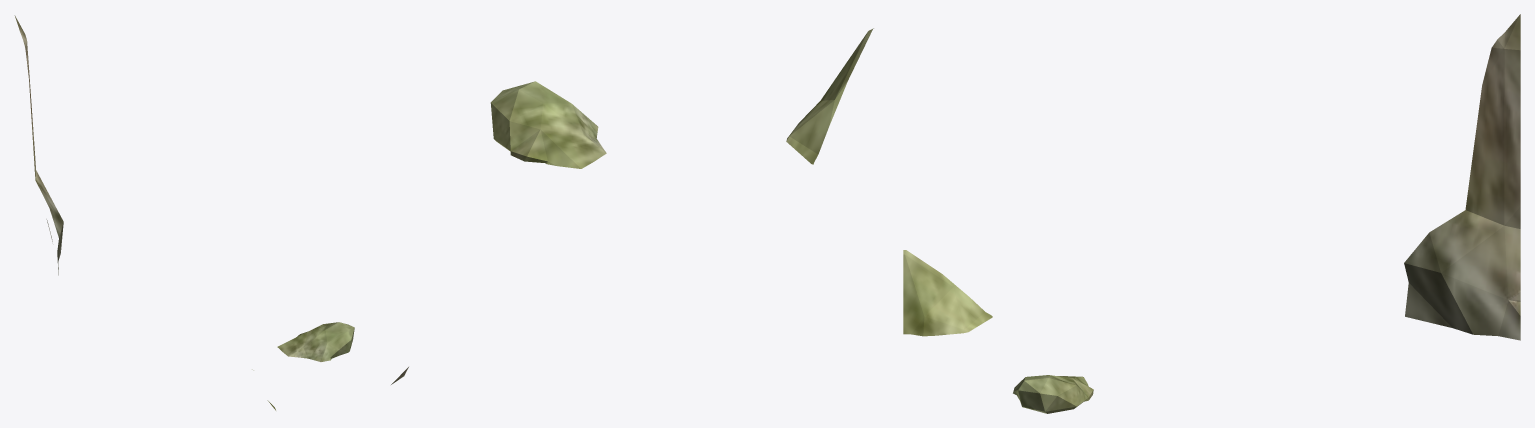
3 renders of one model, left to right at view 1: azimuth 30°, elevation 25°; view 2: azimuth 150°, elevation 25°; view 3: azimuth 270°, elevation 25°, orthographic. The views are drawn at different scales.
Size of the model in its own units: 1.12 by 1.6 by 2.95.
1 material, 1 textured.
